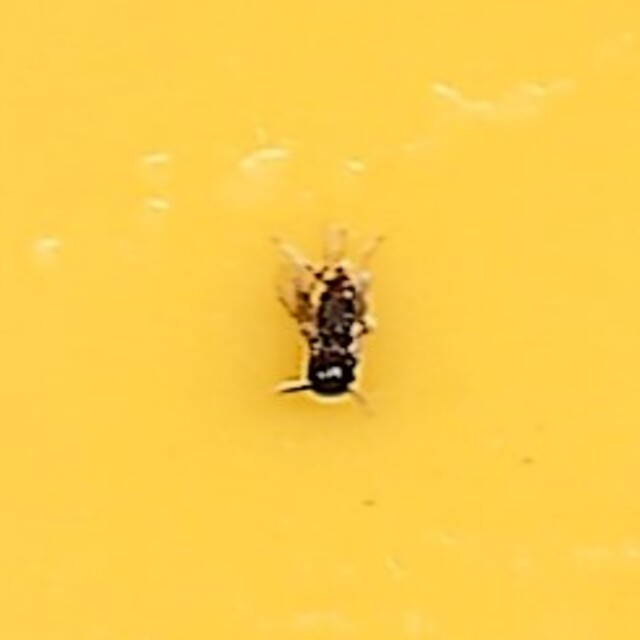Brachycera: (261, 234, 379, 406)
